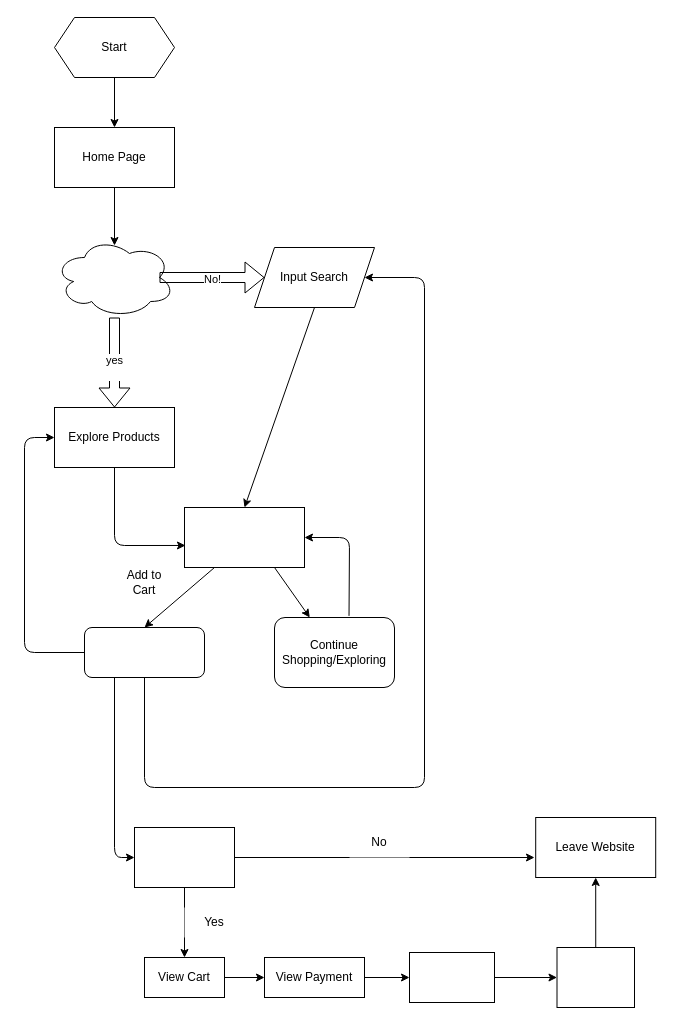
Some shapes in this 674 by 1025 pixel diagram are drawn without their labels. The centre of each missing label's shape, as x and y in pixels:
"Checkout?" goes at (184,857).
"Confirmation + Continue Shopping" goes at (144,652).
"Explore Home Page?" goes at (114,277).
"Order Confirmation + Email" goes at (595,977).
"Payment Info Screen" goes at (451,977).
"View Specific Product" goes at (244,537).
